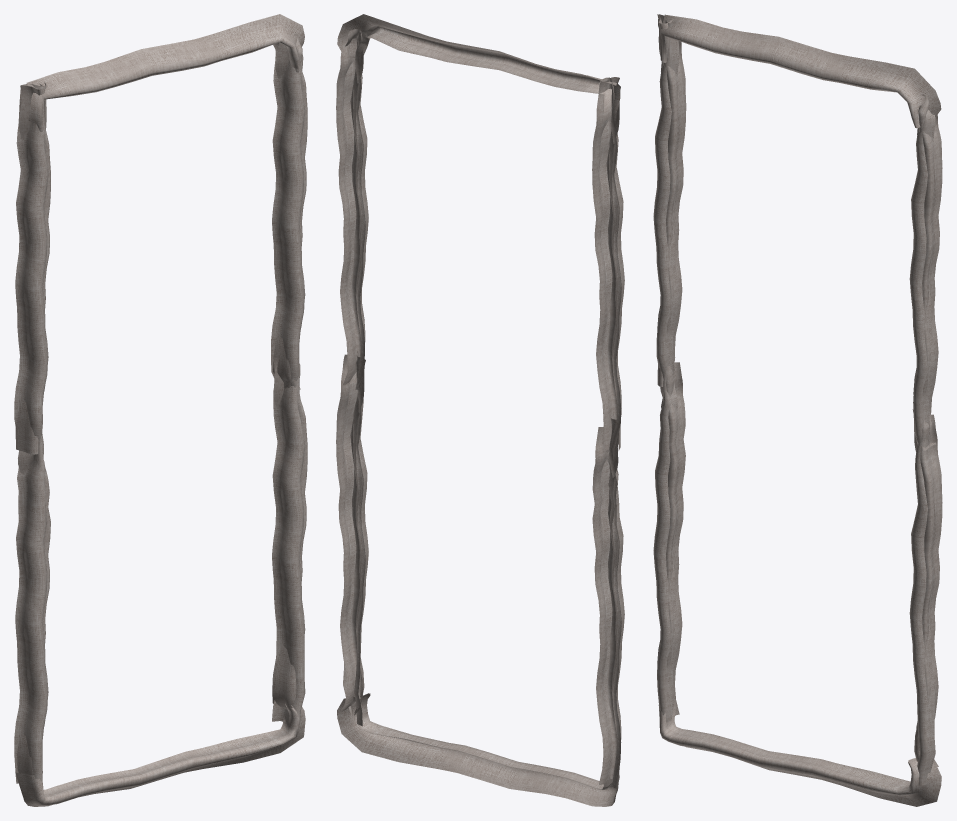
File: dumenmaojin.FBX
3 renders of one model, left to right at view 1: azimuth 30°, elevation 25°; view 2: azimuth 150°, elevation 25°; view 3: azimuth 330°, elevation 25°, orthographic.
Visible parts, largest first — view 1: Group001, Arch60_016_obj006, Arch60_016_obj010, Arch60_016_obj009, Arch60_016_obj004, Arch60_016_obj008, Arch60_016_obj007; view 2: Group001, Arch60_016_obj010, Arch60_016_obj006, Arch60_016_obj004, Arch60_016_obj007, Arch60_016_obj009, Arch60_016_obj008; view 3: Group001, Arch60_016_obj006, Arch60_016_obj010, Arch60_016_obj009, Arch60_016_obj007, Arch60_016_obj004, Arch60_016_obj008.
Boxes of the visible parts, bbox=[...] form: Group001: bbox=[14, 42, 305, 783]; Arch60_016_obj006: bbox=[26, 14, 304, 126]; Arch60_016_obj010: bbox=[15, 703, 305, 806]; Arch60_016_obj009: bbox=[272, 357, 307, 709]; Arch60_016_obj004: bbox=[15, 83, 50, 454]; Arch60_016_obj008: bbox=[273, 33, 307, 390]; Arch60_016_obj007: bbox=[17, 429, 50, 775]; Group001: bbox=[343, 29, 624, 788]; Arch60_016_obj010: bbox=[337, 693, 619, 806]; Arch60_016_obj006: bbox=[337, 14, 616, 120]; Arch60_016_obj004: bbox=[592, 77, 620, 450]; Arch60_016_obj007: bbox=[592, 427, 618, 787]; Arch60_016_obj009: bbox=[336, 354, 365, 715]; Arch60_016_obj008: bbox=[336, 29, 365, 389]; Group001: bbox=[653, 14, 936, 785]; Arch60_016_obj006: bbox=[660, 14, 941, 128]; Arch60_016_obj010: bbox=[658, 700, 941, 806]; Arch60_016_obj009: bbox=[912, 409, 942, 766]; Arch60_016_obj007: bbox=[660, 362, 685, 715]; Arch60_016_obj004: bbox=[657, 14, 686, 386]; Arch60_016_obj008: bbox=[914, 94, 942, 450].
Size of the model in its own units: 108 by 265 by 10.84.
1 material, 1 textured.
